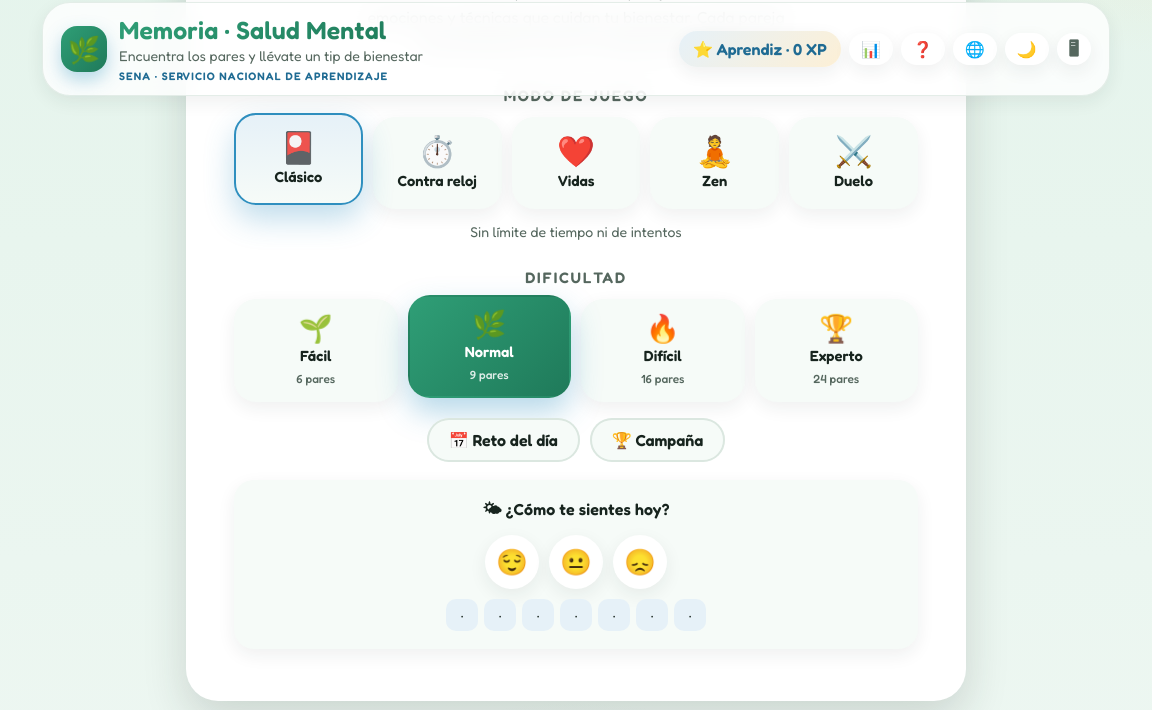
pistas › destapa un par gratis, anuncia la pista y descuenta una pista
(page scrolled)
Click the button with aria-label "Fácil · 6 pares".
click(316, 350)  # box x1=234 y1=299 x2=398 y2=402
(page scrolled)
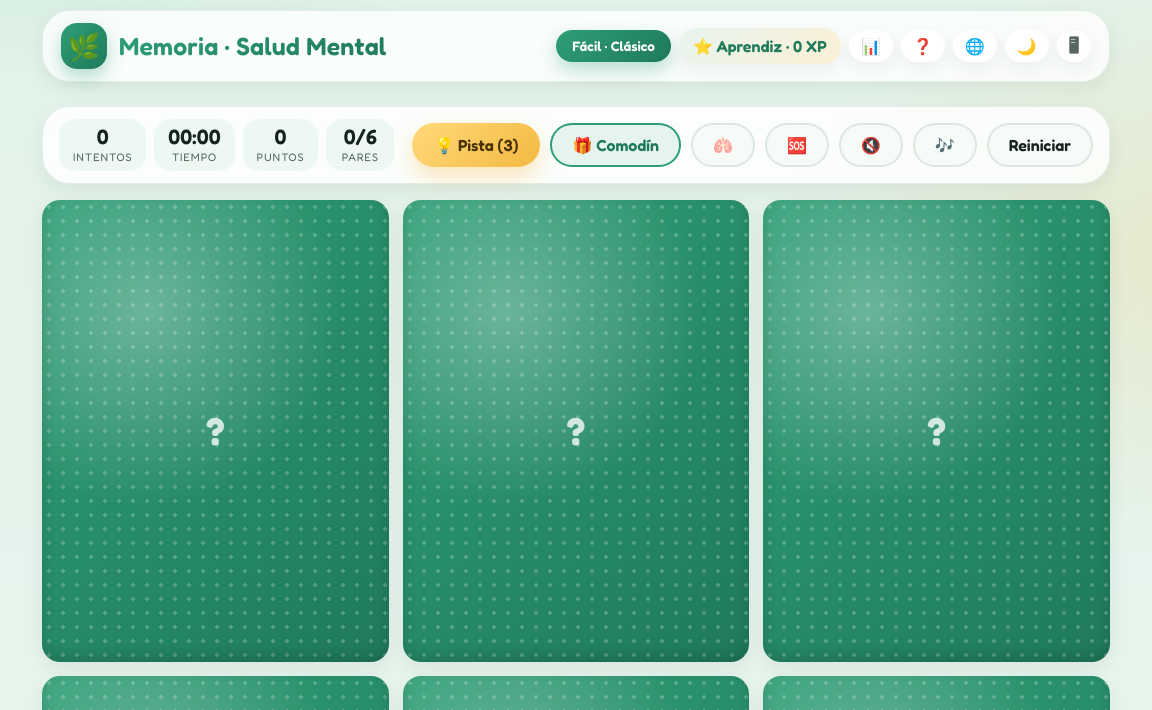
expect the button "💡 Pista (3)" is enabled: met
Click the button "💡 Pista (3)".
click(476, 145)  # box x1=412 y1=123 x2=540 y2=167
Wait 1600 ms
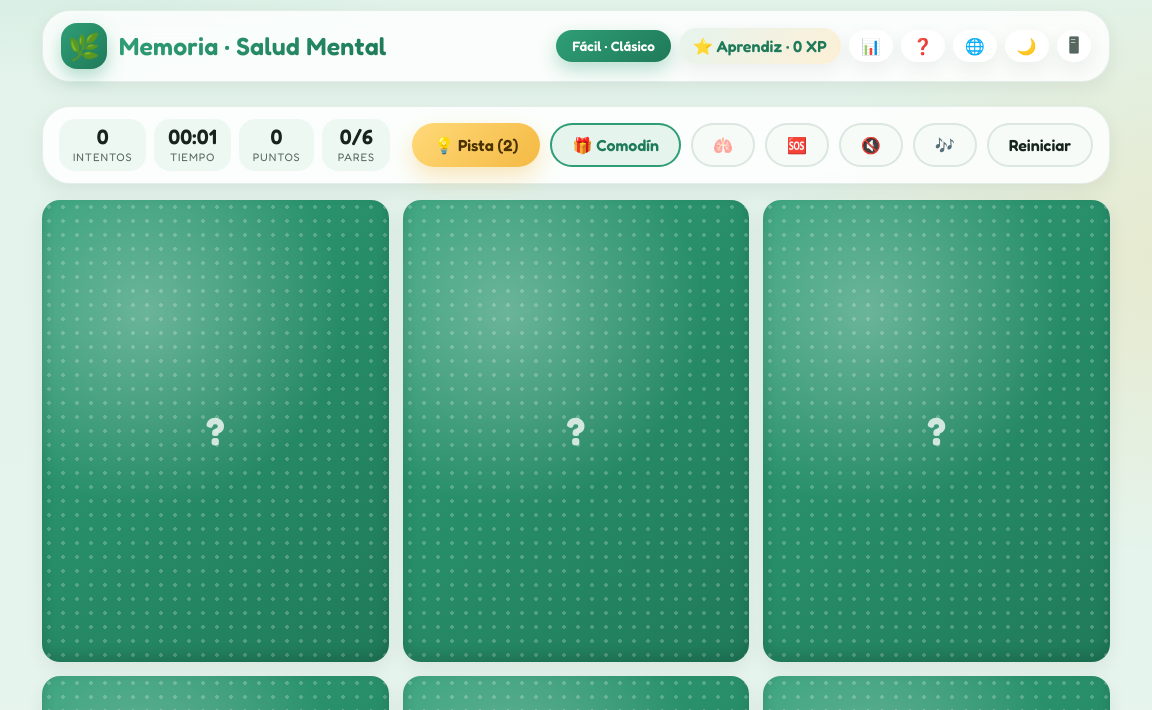
expect the button "💡 Pista (2)" is shown: met, box x1=412 y1=123 x2=540 y2=167
